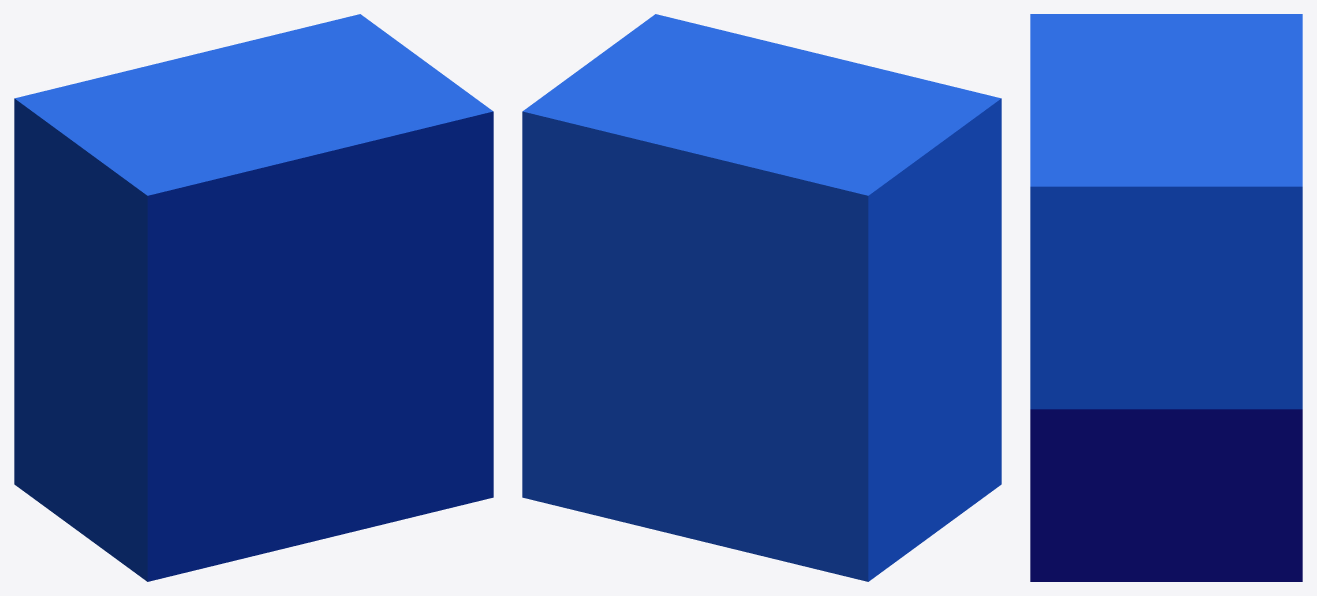
The model's file is wall_end_right.glb.
3 views of the same model, side by side, from view 1: azimuth 30°, elevation 25°; view 2: azimuth 150°, elevation 25°; view 3: azimuth 270°, elevation 25° (orthographic). The views are drawn at different scales.
Visible parts, largest first — view 1: wall_end_right; view 2: wall_end_right; view 3: wall_end_right.
Boxes of the visible parts, <box> form: wall_end_right: <box>14,14,493,581</box>; wall_end_right: <box>522,14,1001,581</box>; wall_end_right: <box>1030,14,1302,581</box>.
Bounding box in the file's own units: 0.75 × 0.8 × 0.5.
